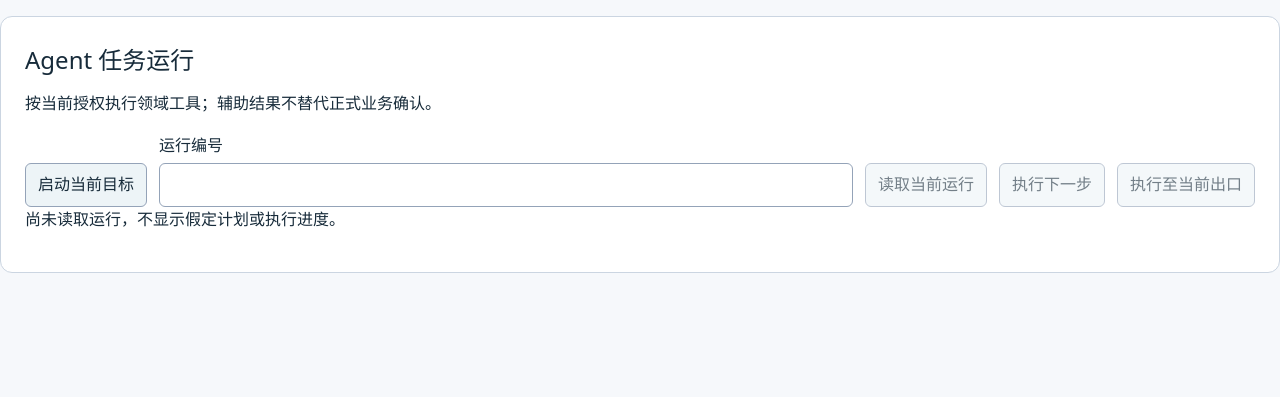
Test: optional browser receipt recovery › permission rejection clears projection but retains the uncertain receipt for normal reauthentication
Step 1. Click the button "启动当前目标" → (86, 185), box [25,163,147,207]
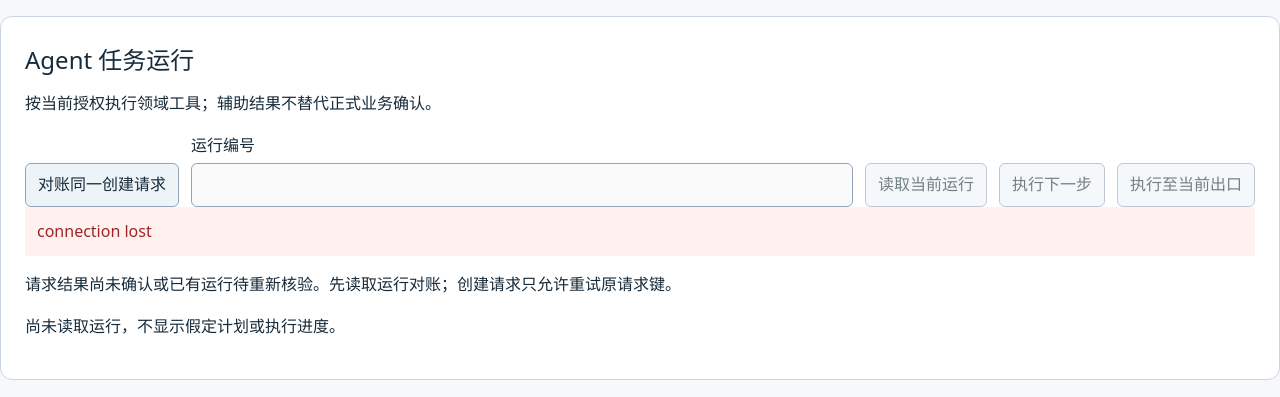
Expected: the text "connection lost" is shown, [25,207,1255,256]
Step 2. Click the button "对账同一创建请求" → (102, 185), box [25,163,179,207]
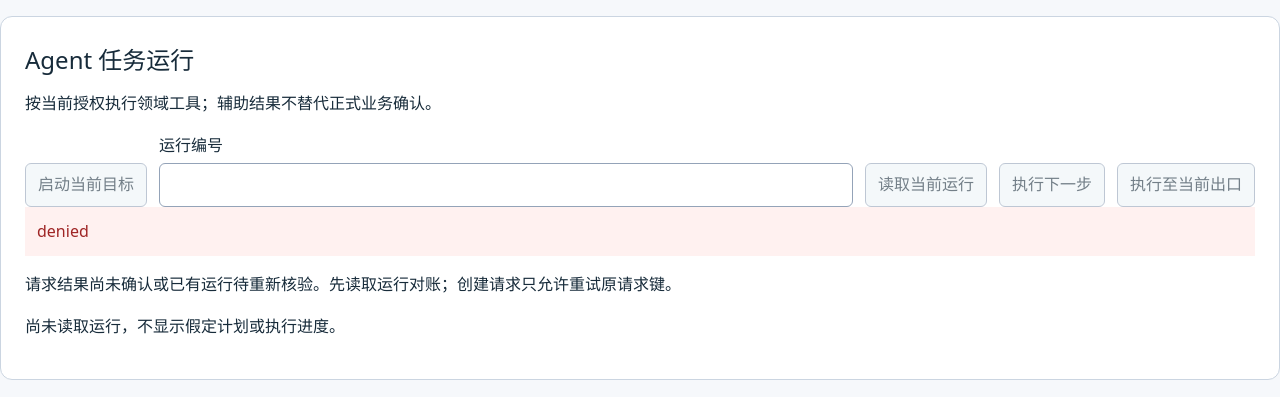
Expected: the text "denied" is shown, [25,207,1255,256]
